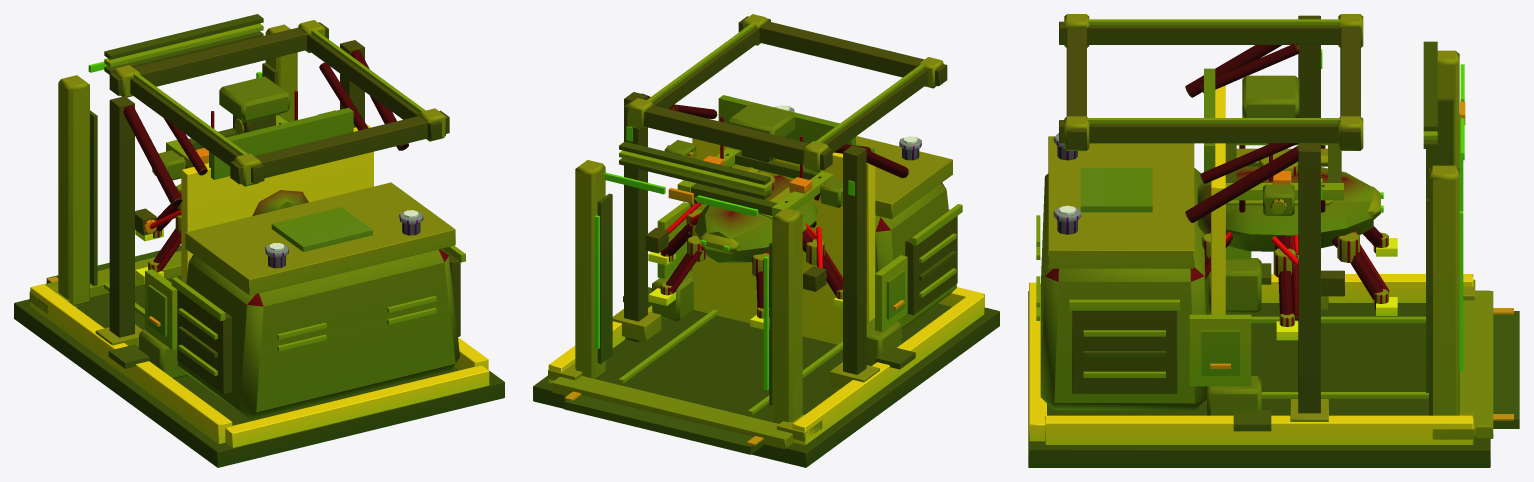
File: ArachnidHexapodFactory.fbx
3 views of the same model, side by side, from view 1: azimuth 30°, elevation 25°; view 2: azimuth 150°, elevation 25°; view 3: azimuth 270°, elevation 25° (orthographic). The views are drawn at different scales.
Visible parts, largest first — view 1: ArachnidHexapodFactory_Batch_Gunmetal, ArachnidHexapodFactory_Batch_PrimaryArmor, ArachnidHexapodFactory_Batch_LightArmor, ArachnidHexapodFactory_Batch_Tread, ArachnidHexapodFactory_Batch_WheelRim; view 2: ArachnidHexapodFactory_Batch_Gunmetal, ArachnidHexapodFactory_Batch_LightArmor, ArachnidHexapodFactory_Batch_Tread, ArachnidHexapodFactory_Batch_PrimaryArmor, ArachnidHexapodFactory_Batch_WheelRim, ArachnidHexapodFactory_Batch_Emissive, ArachnidHexapodFactory_Batch_Warning; view 3: ArachnidHexapodFactory_Batch_Gunmetal, ArachnidHexapodFactory_Batch_LightArmor, ArachnidHexapodFactory_Batch_PrimaryArmor, ArachnidHexapodFactory_Batch_Tread, ArachnidHexapodFactory_Batch_WheelRim, ArachnidHexapodFactory_Batch_Emissive, ArachnidHexapodFactory_Batch_Warning.
Boxes of the visible parts, x1,y1,x2,y2 form: ArachnidHexapodFactory_Batch_Gunmetal: [14, 14, 504, 467]; ArachnidHexapodFactory_Batch_PrimaryArmor: [139, 76, 459, 419]; ArachnidHexapodFactory_Batch_LightArmor: [29, 20, 465, 349]; ArachnidHexapodFactory_Batch_Tread: [30, 124, 489, 447]; ArachnidHexapodFactory_Batch_WheelRim: [44, 90, 436, 375]; ArachnidHexapodFactory_Batch_Gunmetal: [533, 16, 999, 467]; ArachnidHexapodFactory_Batch_LightArmor: [548, 14, 962, 441]; ArachnidHexapodFactory_Batch_Tread: [548, 105, 984, 445]; ArachnidHexapodFactory_Batch_PrimaryArmor: [652, 95, 956, 365]; ArachnidHexapodFactory_Batch_WheelRim: [552, 107, 956, 448]; ArachnidHexapodFactory_Batch_Emissive: [594, 126, 854, 390]; ArachnidHexapodFactory_Batch_Warning: [564, 155, 904, 445]; ArachnidHexapodFactory_Batch_Gunmetal: [1028, 15, 1519, 467]; ArachnidHexapodFactory_Batch_LightArmor: [1048, 14, 1475, 439]; ArachnidHexapodFactory_Batch_PrimaryArmor: [1040, 68, 1389, 415]; ArachnidHexapodFactory_Batch_Tread: [1029, 85, 1473, 444]; ArachnidHexapodFactory_Batch_WheelRim: [1036, 46, 1493, 438]; ArachnidHexapodFactory_Batch_Emissive: [1321, 49, 1464, 370]; ArachnidHexapodFactory_Batch_Warning: [1210, 101, 1513, 420].
Size of the model in its own units: 334 by 309 by 431.
